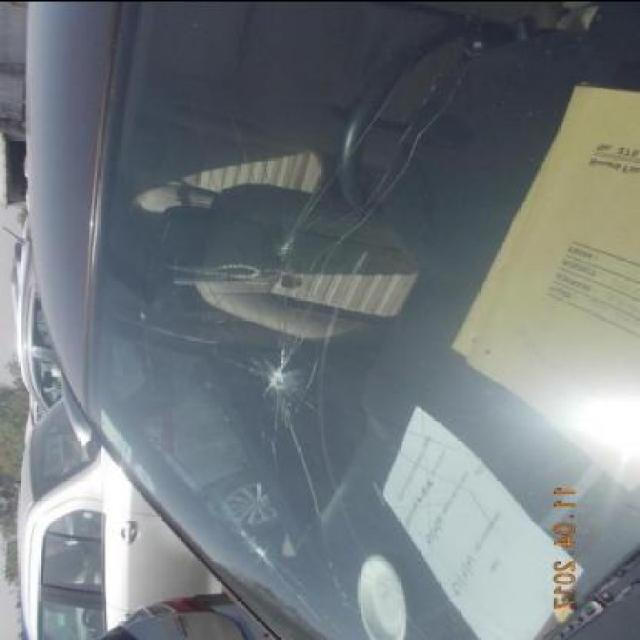damage: (209, 328, 309, 429), (268, 169, 338, 272), (230, 521, 281, 581)
